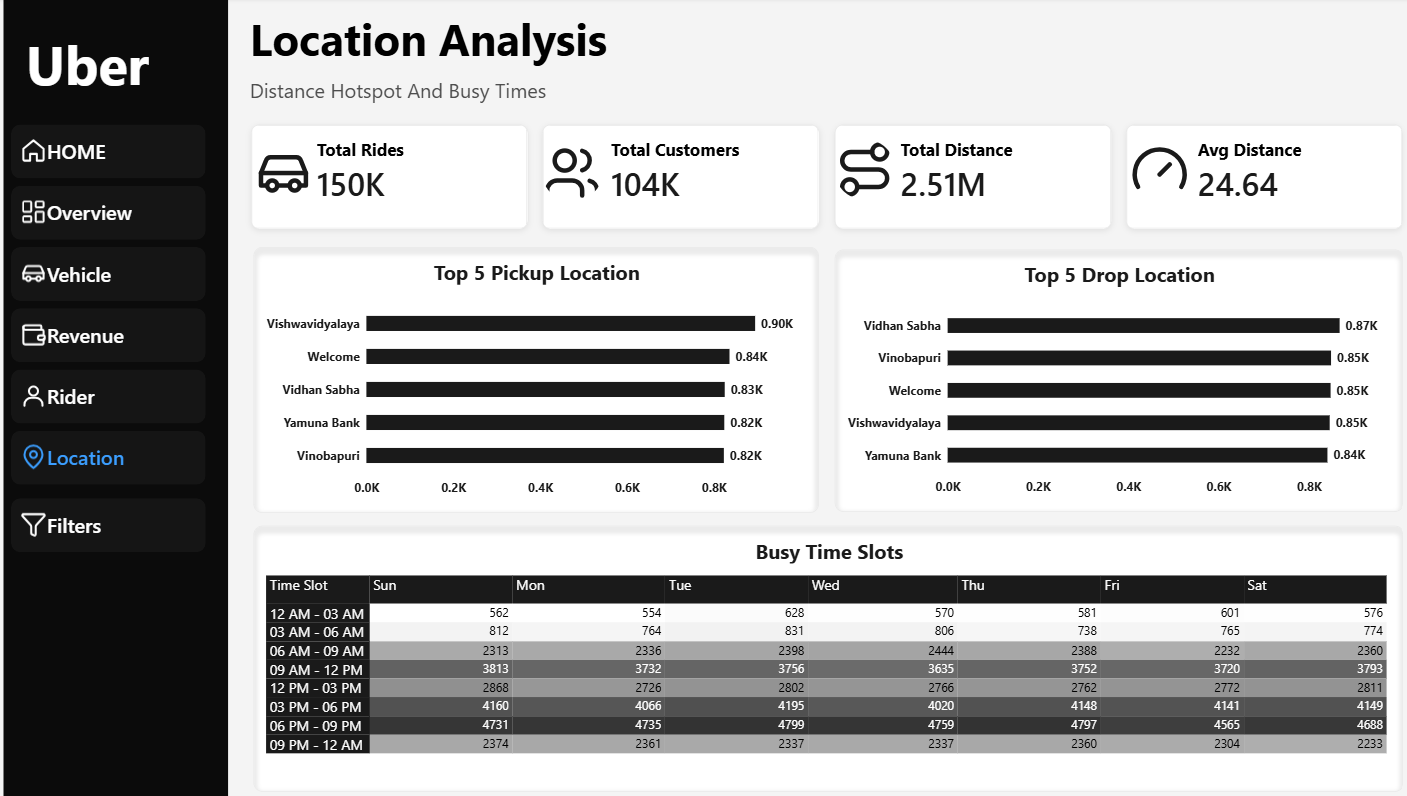

The page's visual inventory and layout, read from the dashboard file:
{"tool":"powerbi","page":{"name":"Location","canvas":[1920,1080],"ordinal":5},"visuals":[{"type":"shape","box":[10,0,300,1080],"z":0},{"type":"textbox","box":[40,40,305.1,162.3],"z":1000},{"type":"actionButton","box":[20,170,260,72],"z":2000},{"type":"actionButton","box":[20,252,260,72],"z":3000},{"type":"actionButton","box":[20,334,260,72],"z":5000},{"type":"actionButton","box":[20,416,260,72],"z":6000},{"type":"actionButton","box":[20,498,260,72],"z":7000},{"type":"actionButton","box":[20,580,260,72],"z":8000},{"type":"textbox","box":[339.8,15.1,560.5,132],"z":9000},{"type":"textbox","box":[339.8,82.2,560.5,99.6],"z":10000},{"type":"cardVisual","fields":{"Data":["ALL_Measures.Total Rides"]},"box":[340,170,370,140],"z":11000},{"type":"image","box":[344.1,190,80,80],"z":12000},{"type":"cardVisual","fields":{"Data":["ALL_Measures.Total Customers"]},"box":[730,170,370,140],"z":13000},{"type":"image","box":[730,190,80,80],"z":14000},{"type":"cardVisual","fields":{"Data":["ALL_Measures.Total Distance"]},"box":[1120,170,370,140],"z":15000},{"type":"image","box":[1120,190.4,80,80],"z":16000},{"type":"cardVisual","fields":{"Data":["ALL_Measures.Avg Distance"]},"box":[1510,170,370,140],"z":17000},{"type":"image","box":[1514.1,190,80,80],"z":18000},{"type":"actionButton","title":"Btn_filter","box":[19.9,669.6,260,72],"z":19000},{"type":"barChart","title":"Top 5 Pickup Location","fields":{"Category":["Bookings.Pickup Location"],"Y":["ALL_Measures.Total Rides"]},"box":[344.1,333.3,755.3,354.9],"z":25000},{"type":"barChart","title":"Top 5 Drop Location","fields":{"Category":["Bookings.Drop Location"],"Y":["ALL_Measures.Total Rides"]},"box":[1121,337.6,759.6,350.6],"z":26000},{"type":"pivotTable","title":"Busy Time Slots","fields":{"Columns":["Calendar.Day Short"],"Rows":["Bookings.Time Slot"],"Values":["ALL_Measures.Total Rides"]},"box":[344.1,705.5,1536.5,354.9],"z":27000}]}

Visuals, with their boxes on the page's 1920x1080 design canvas (x1, y1, x2, y2). These are canvas units, not pixel positions in the 1407x796 screenshot, which may show the page scaled, cropped or inside an application window:
shape: (10, 0, 310, 1080)
textbox: (40, 40, 345, 202)
actionButton: (20, 170, 280, 242)
actionButton: (20, 252, 280, 324)
actionButton: (20, 334, 280, 406)
actionButton: (20, 416, 280, 488)
actionButton: (20, 498, 280, 570)
actionButton: (20, 580, 280, 652)
textbox: (340, 15, 900, 147)
textbox: (340, 82, 900, 182)
cardVisual - ALL_Measures.Total Rides: (340, 170, 710, 310)
image: (344, 190, 424, 270)
cardVisual - ALL_Measures.Total Customers: (730, 170, 1100, 310)
image: (730, 190, 810, 270)
cardVisual - ALL_Measures.Total Distance: (1120, 170, 1490, 310)
image: (1120, 190, 1200, 270)
cardVisual - ALL_Measures.Avg Distance: (1510, 170, 1880, 310)
image: (1514, 190, 1594, 270)
"Btn_filter" actionButton: (20, 670, 280, 742)
"Top 5 Pickup Location" barChart: (344, 333, 1099, 688)
"Top 5 Drop Location" barChart: (1121, 338, 1881, 688)
"Busy Time Slots" pivotTable: (344, 706, 1881, 1060)
